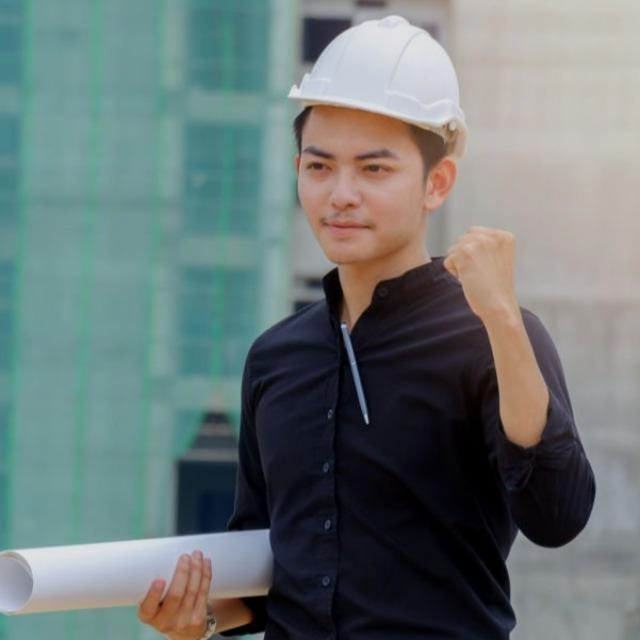Con_Casco: (285, 12, 471, 268)
Sin_Chaleco: (239, 275, 553, 638)
